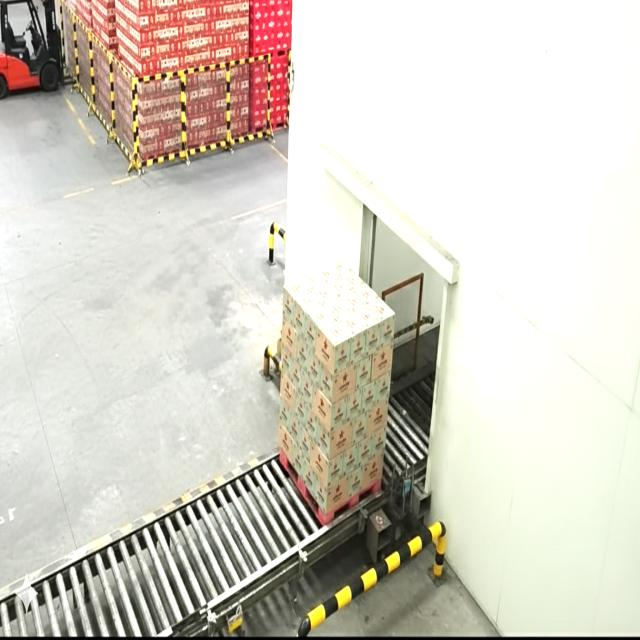pallet: (278, 260, 393, 528)
